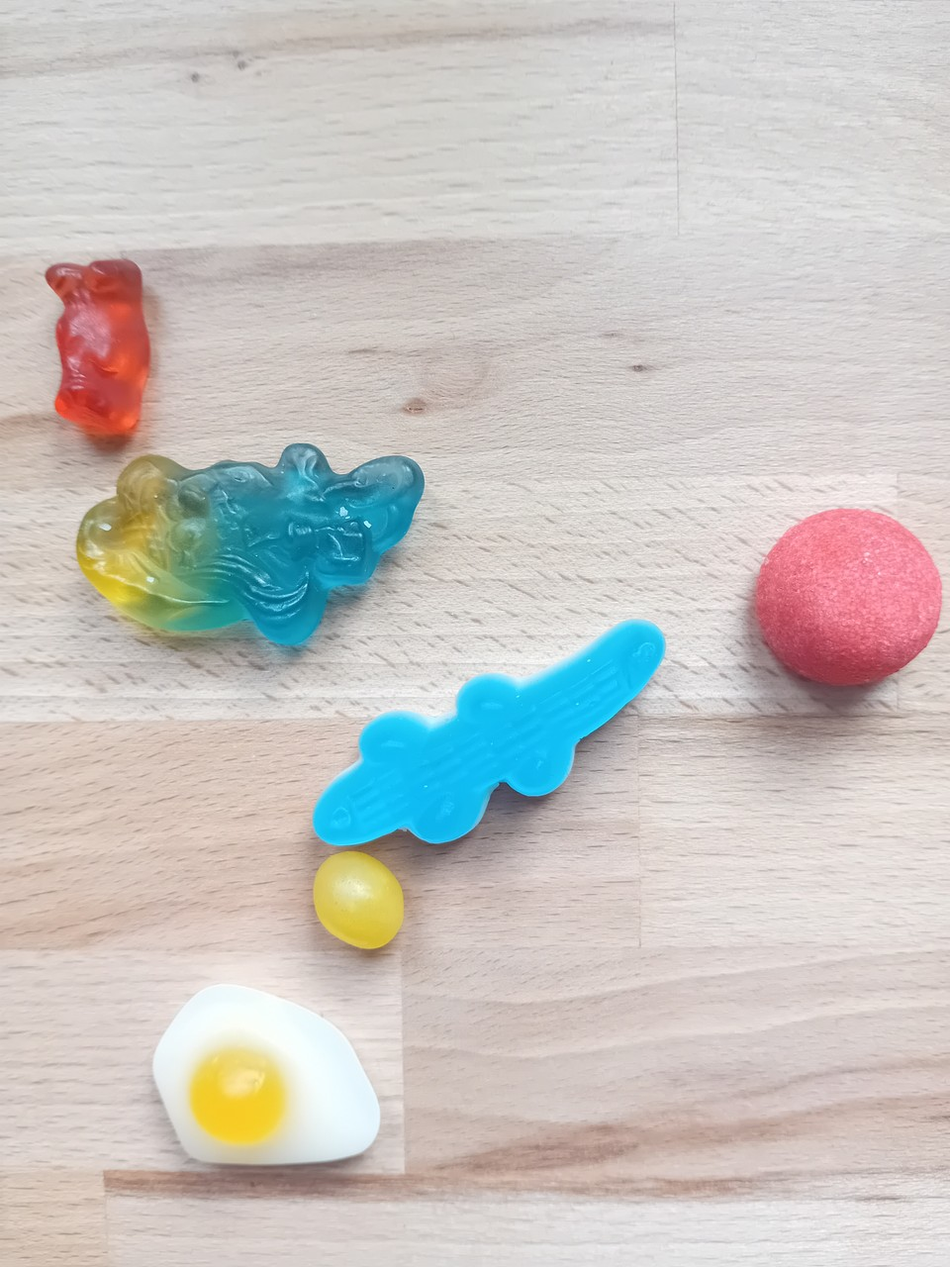crocodile_bleu: (308, 616, 666, 853)
dragibus_jaune: (304, 848, 416, 956)
oeuf_oeuf: (144, 984, 385, 1166)
ourson_orangeFonce: (38, 254, 158, 441)
schtroumpf_bleu-jaune: (68, 443, 428, 646)
tagada_fraise: (747, 499, 943, 691)
